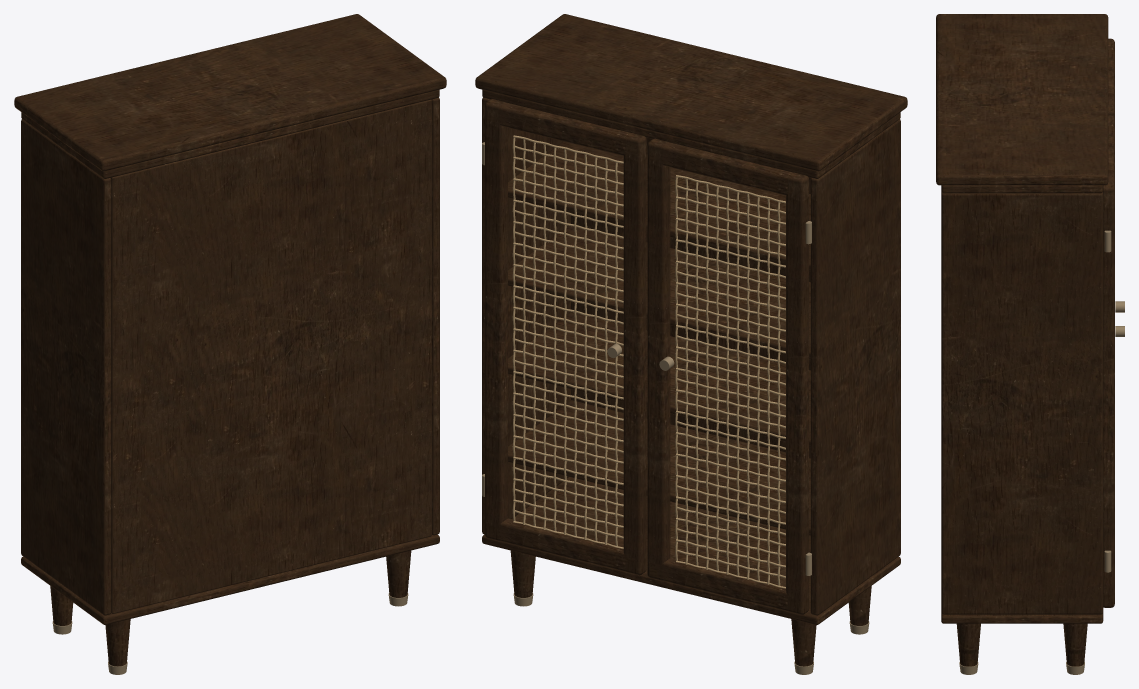
Rendered from crafted-cane-shoe-cabinet.glb.
3 renders of one model, left to right at view 1: azimuth 30°, elevation 25°; view 2: azimuth 150°, elevation 25°; view 3: azimuth 270°, elevation 25°, orthographic. The views are drawn at different scales.
Visible parts, largest first — view 1: walnut_surfaces; view 2: walnut_surfaces, cane_surfaces, bronze_surfaces; view 3: walnut_surfaces, bronze_surfaces.
Part boxes in pixels (x1,y1,x2,y2): walnut_surfaces: [14, 14, 446, 666]; walnut_surfaces: [475, 14, 907, 666]; cane_surfaces: [512, 135, 785, 588]; bronze_surfaces: [482, 142, 869, 674]; walnut_surfaces: [936, 14, 1114, 666]; bronze_surfaces: [959, 230, 1124, 674].
Bounding box in the file's own units: 1.05 × 1.53 × 0.513.
3 materials, 1 textured.
